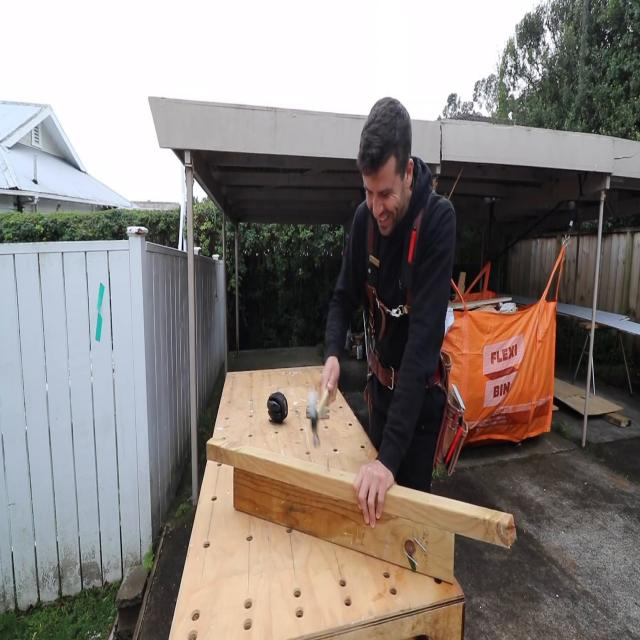hammer: (312, 387, 331, 446)
